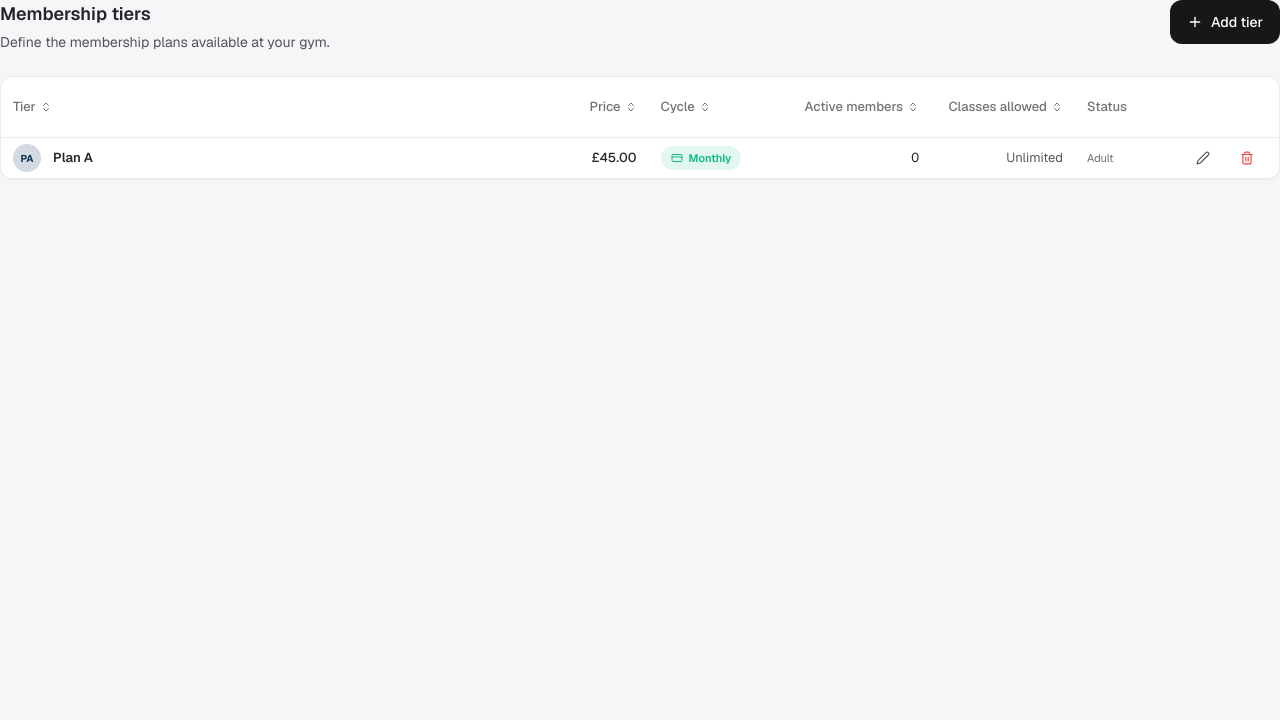
the class allowance in the tier editor › setting 4 every 4 weeks from 20 October sends the whole set, and the row then reads it
Click the button named "Edit Plan A": coordinates (1203, 158) [1183, 142, 1223, 174]
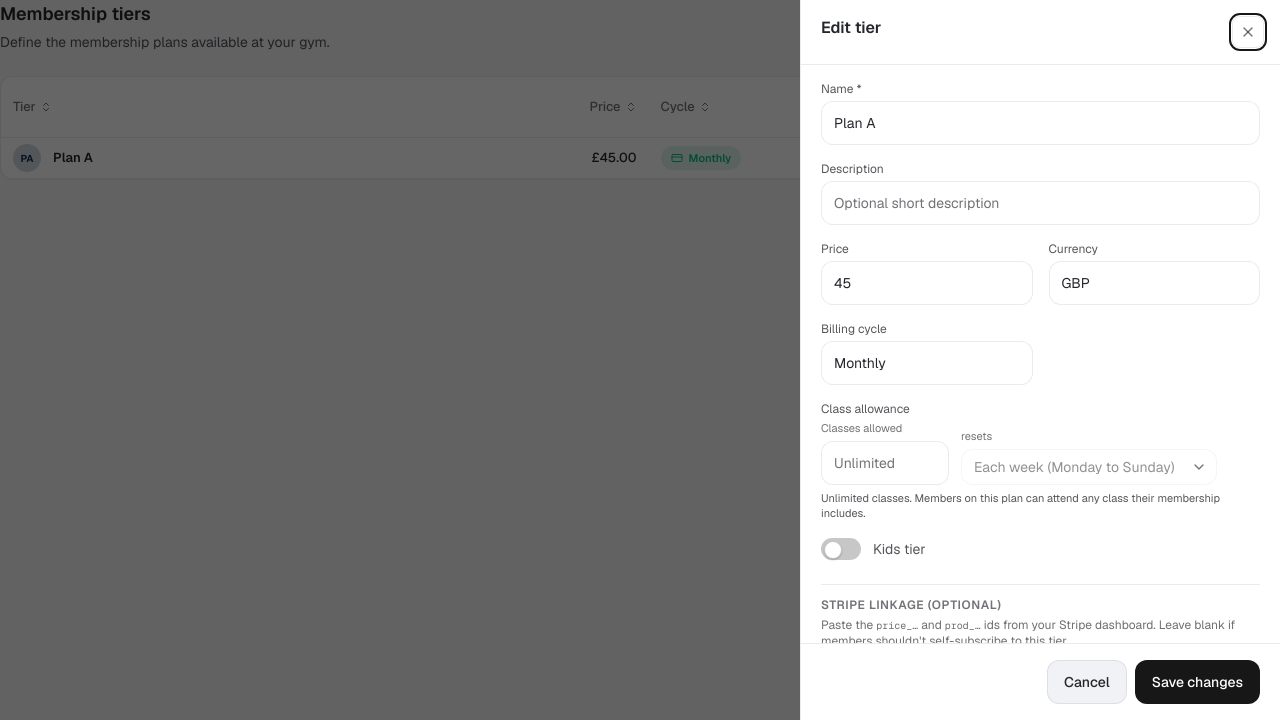
In the field labelled "Classes allowed": coordinates (885, 463) [821, 441, 949, 485], type "4"
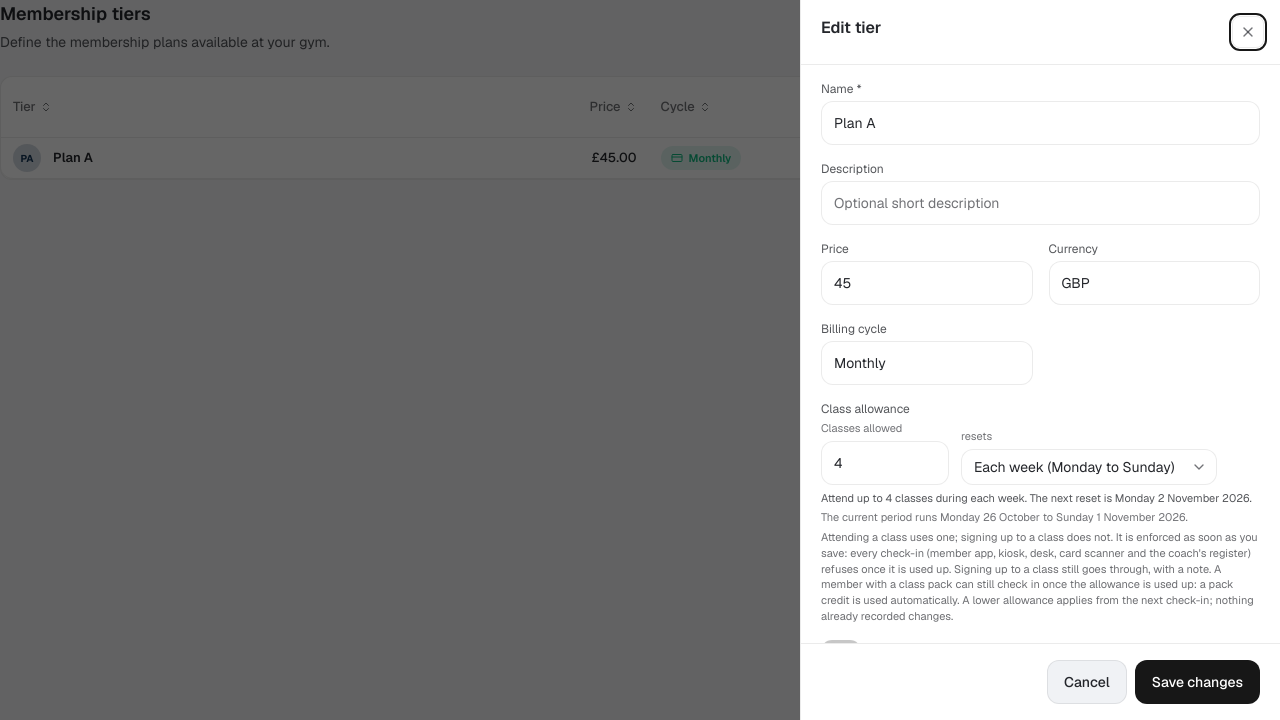
Select "Every N weeks from a start date" in the dropdown labelled "resets": coordinates (1089, 467) [961, 449, 1217, 485]
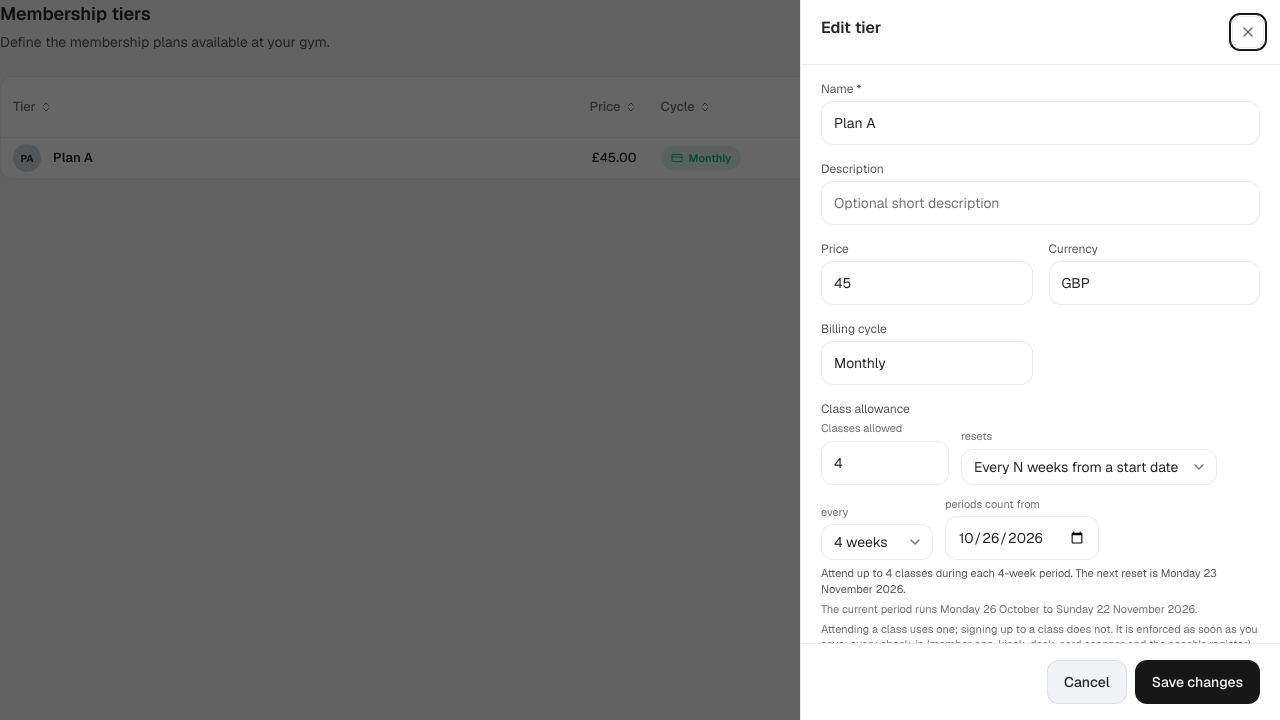
Select "4 weeks" in the dropdown named "every (weeks)": coordinates (877, 542) [821, 524, 933, 560]
In the date field labelled "periods count from": coordinates (1022, 538) [945, 516, 1099, 560], type "2026-10-20"
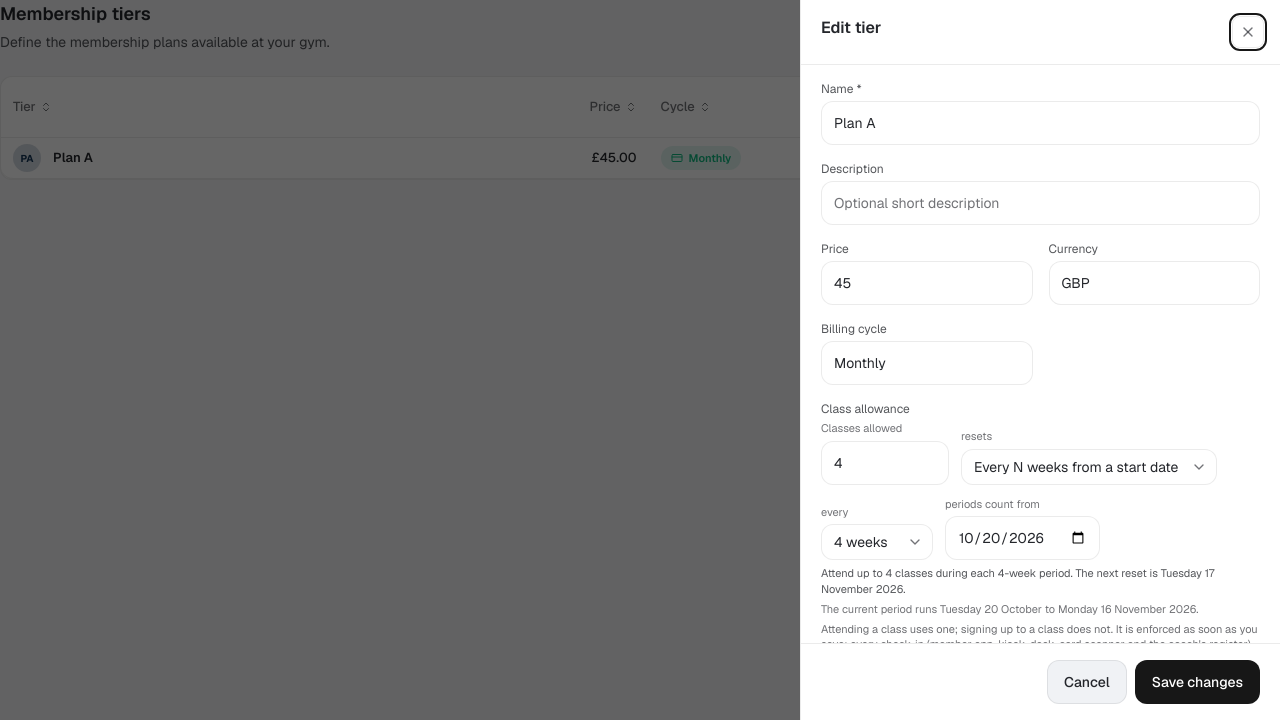
Click the button "Save changes": coordinates (1197, 682) [1135, 660, 1260, 704]
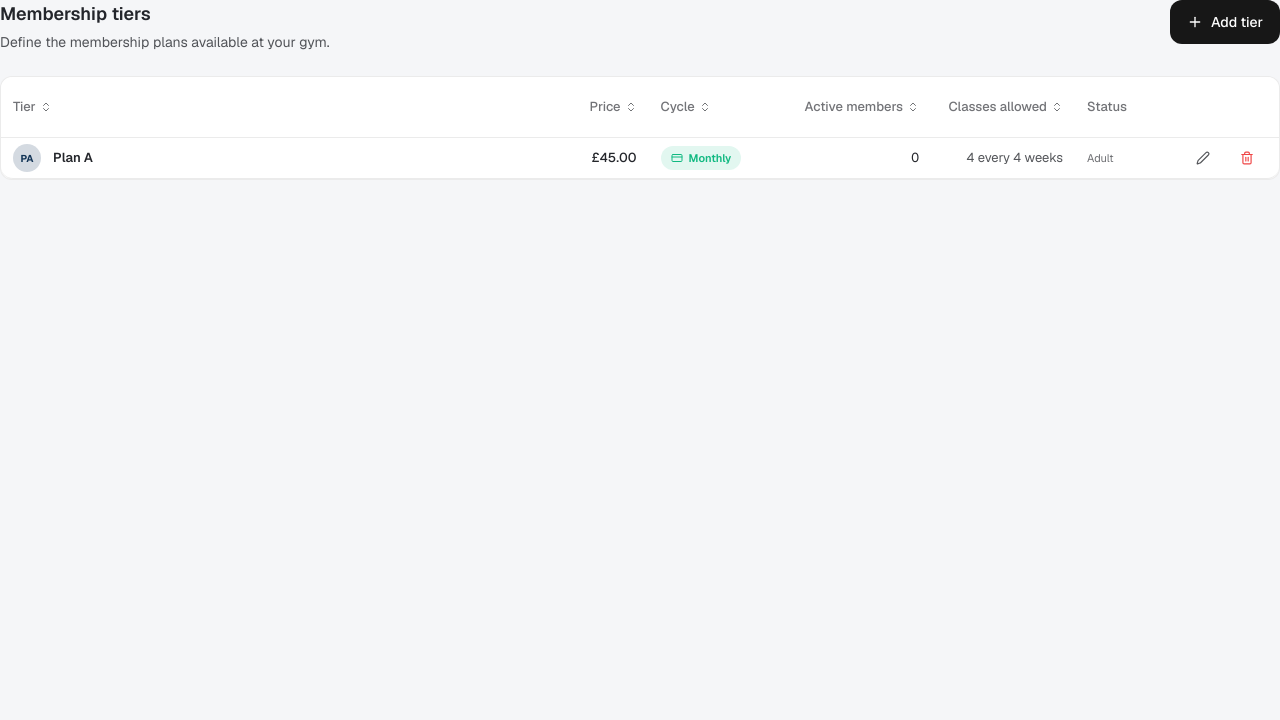
Expected: the text "4 every 4 weeks" is shown, [966, 149, 1063, 166]
